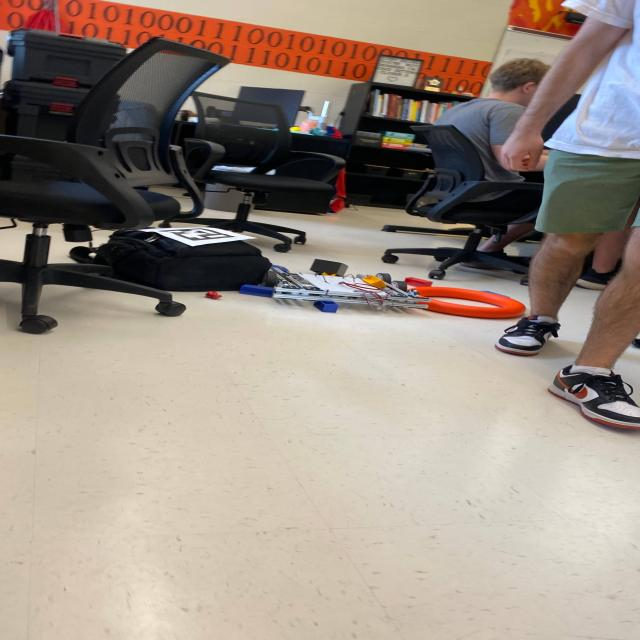blue-specimen: (239, 285, 273, 297), (314, 300, 338, 313)
red-specimen: (404, 277, 432, 287)
yellow-specimen: (368, 277, 386, 287)
